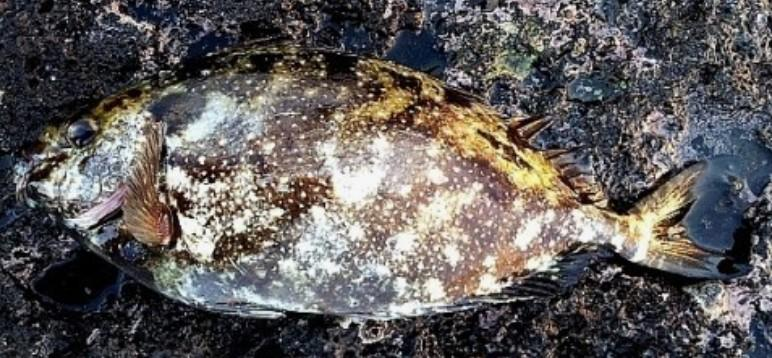fish: (15, 38, 723, 319)
